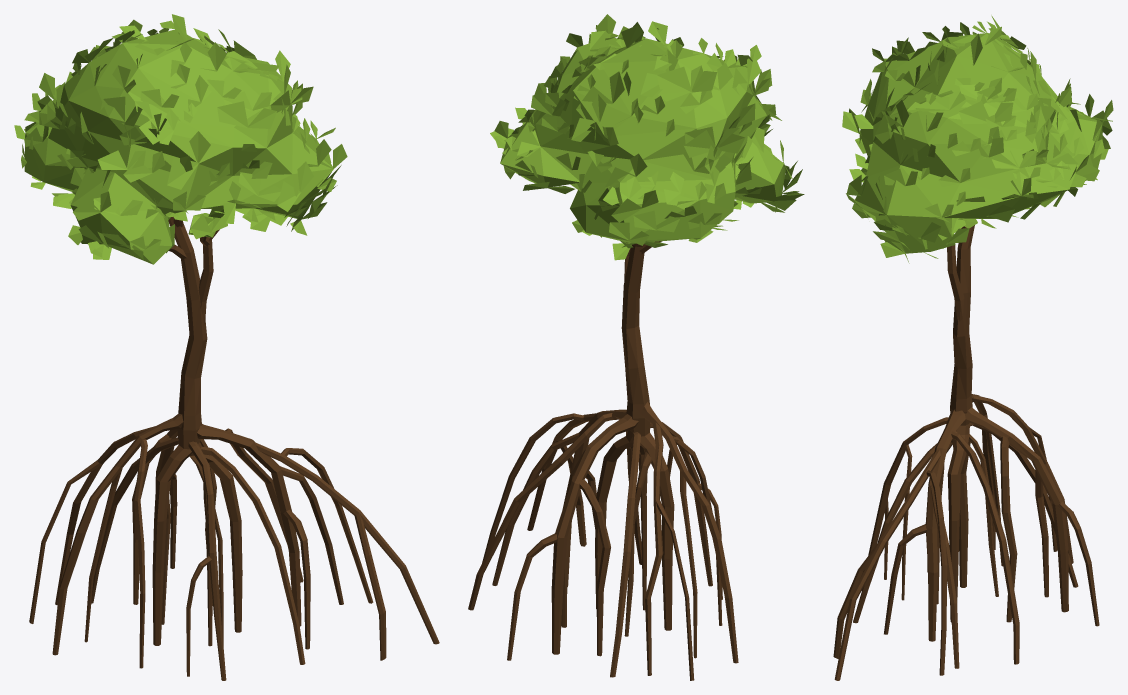
Rendered from SM_Tree_Mangrove_Mature_A.fbx.
The picture shows the model from 3 angles, left to right: view 1: azimuth 30°, elevation 25°; view 2: azimuth 150°, elevation 25°; view 3: azimuth 270°, elevation 25°; orthographic projection. The views are drawn at different scales.
Parts seen in each view (by area): view 1: tree-mangrove-mature-a; view 2: tree-mangrove-mature-a; view 3: tree-mangrove-mature-a.
Boxes of the visible parts, x1,y1,x2,y2 form: tree-mangrove-mature-a: (14,14,439,680); tree-mangrove-mature-a: (468,14,804,680); tree-mangrove-mature-a: (833,15,1113,680).
Bounding box in the file's own units: 6.39 × 11.76 × 5.27.
